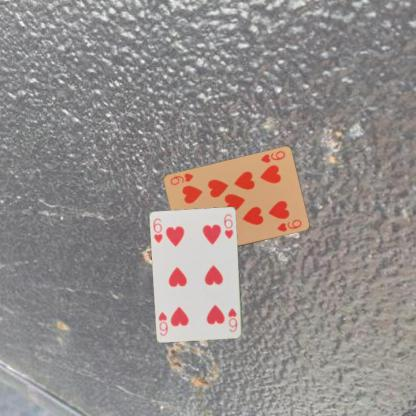6h: (225, 306, 239, 333), (151, 216, 164, 244)
9h: (258, 149, 286, 164)
